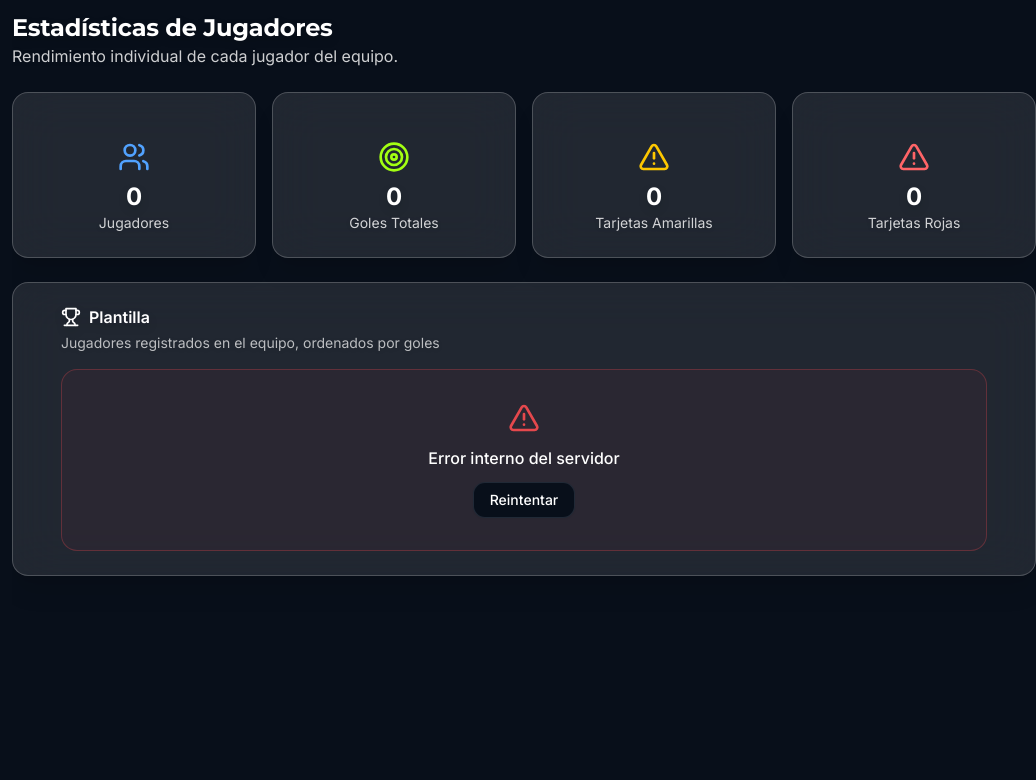
Scenario: PlayerStatisticsPage › shows the API error and reloads on retry
Check: the message shows "Error interno del servidor", box left=428, top=448, right=620, bottom=468
Click the button "Reintentar": {"x": 524, "y": 500} left=473, top=482, right=575, bottom=518
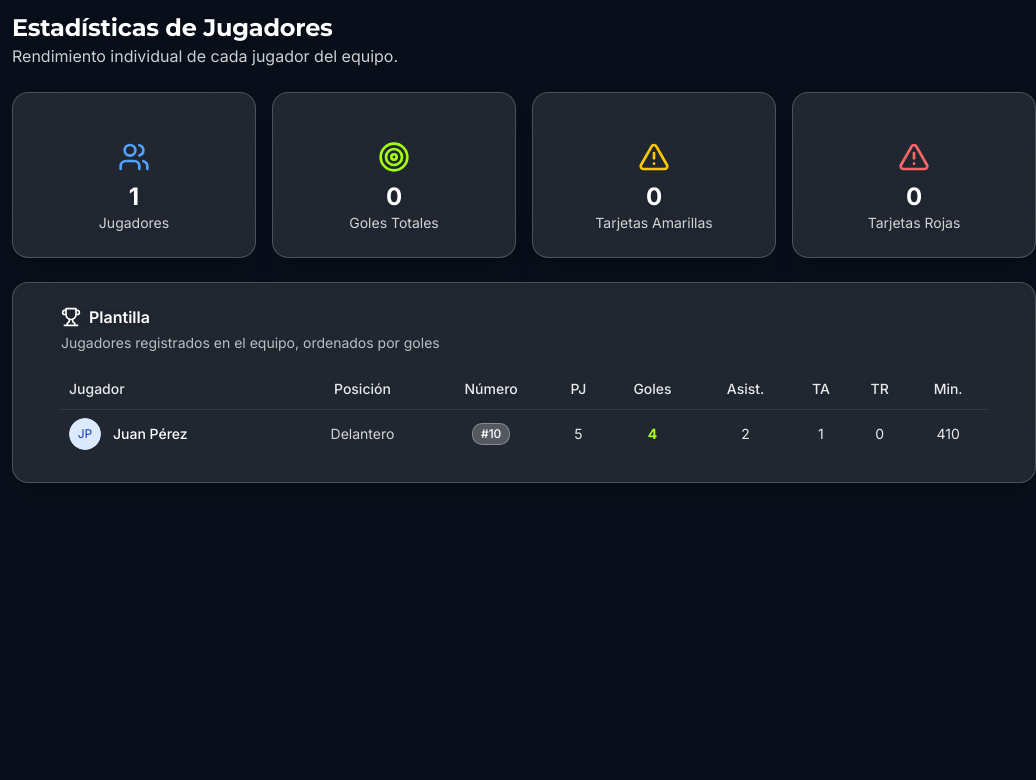
Check: the text "Juan Pérez" is shown, box left=113, top=424, right=188, bottom=444
